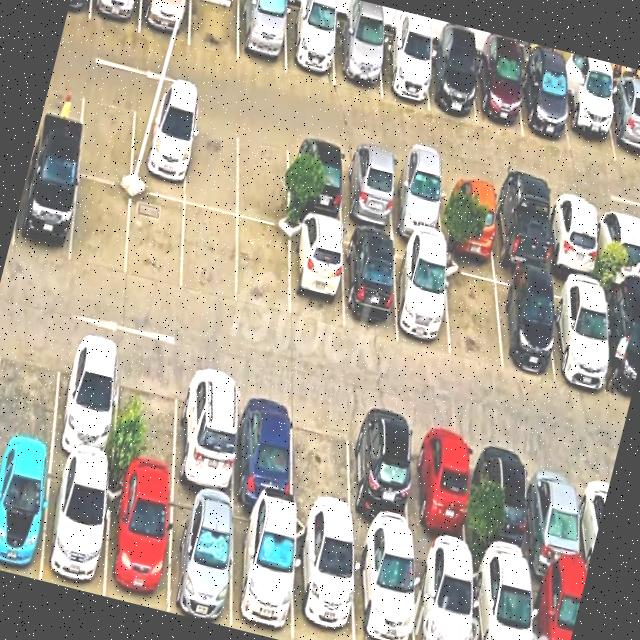empty: (113, 348, 179, 485), (0, 319, 62, 452), (293, 395, 351, 530), (444, 257, 502, 368), (70, 175, 131, 276), (77, 82, 135, 186), (126, 190, 184, 292), (181, 204, 237, 303), (184, 110, 237, 214), (237, 122, 288, 228), (236, 219, 288, 317), (189, 0, 239, 60)
occupied: (41, 456, 109, 596), (52, 332, 120, 469), (105, 472, 171, 612), (168, 487, 232, 627), (174, 364, 238, 500), (230, 503, 293, 640), (350, 408, 412, 544), (234, 379, 293, 512), (412, 421, 467, 559), (293, 518, 354, 640), (530, 449, 584, 583), (12, 158, 78, 263), (479, 436, 530, 571), (0, 445, 51, 580), (550, 277, 609, 392), (495, 268, 554, 376), (130, 96, 190, 202), (354, 535, 414, 640), (394, 242, 449, 355), (343, 230, 397, 339), (290, 217, 342, 328), (413, 546, 473, 640), (492, 183, 548, 274), (472, 559, 531, 640), (442, 171, 495, 260), (289, 135, 342, 224), (342, 147, 394, 234), (390, 158, 442, 244), (562, 77, 615, 161), (602, 288, 640, 403), (548, 195, 598, 281), (520, 63, 569, 149), (286, 5, 335, 85), (475, 53, 522, 136), (426, 45, 476, 123), (596, 205, 640, 291), (379, 33, 428, 110), (530, 572, 585, 640), (238, 0, 285, 73), (334, 22, 381, 95), (605, 86, 640, 168), (139, 0, 191, 45), (89, 0, 141, 32)
